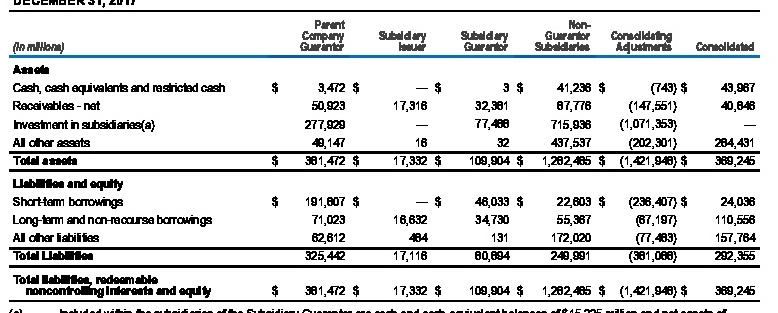table: (0, 0, 778, 313)
